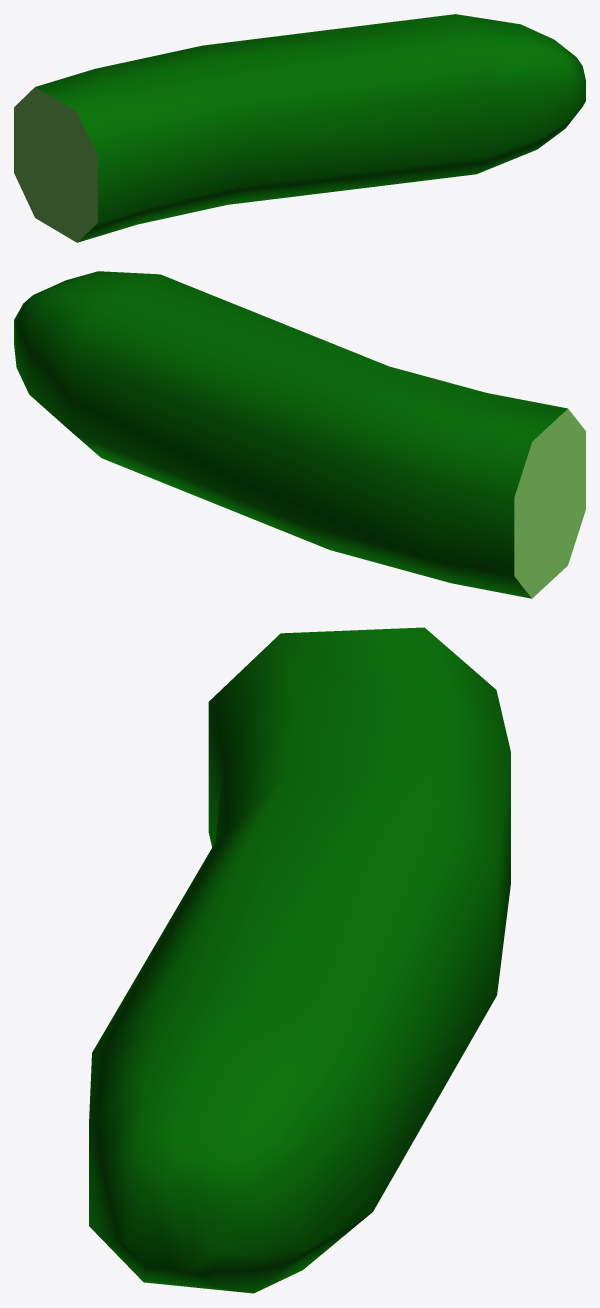
File: mesh_Cucumber_Stage06.fbx
The picture shows the model from 3 angles, top to bottom: view 1: azimuth 30°, elevation 25°; view 2: azimuth 150°, elevation 25°; view 3: azimuth 270°, elevation 25°; orthographic projection. The views are drawn at different scales.
Parts seen in each view (by area): view 1: mesh_Cucumber_Stage06; view 2: mesh_Cucumber_Stage06; view 3: mesh_Cucumber_Stage06.
Part boxes in pixels (x1=…): mesh_Cucumber_Stage06: x1=14, y1=14, x2=585, y2=242; mesh_Cucumber_Stage06: x1=14, y1=271, x2=585, y2=598; mesh_Cucumber_Stage06: x1=89, y1=627, x2=510, y2=1293.
Size of the model in its own units: 0.143 by 0.0367 by 0.0535.
